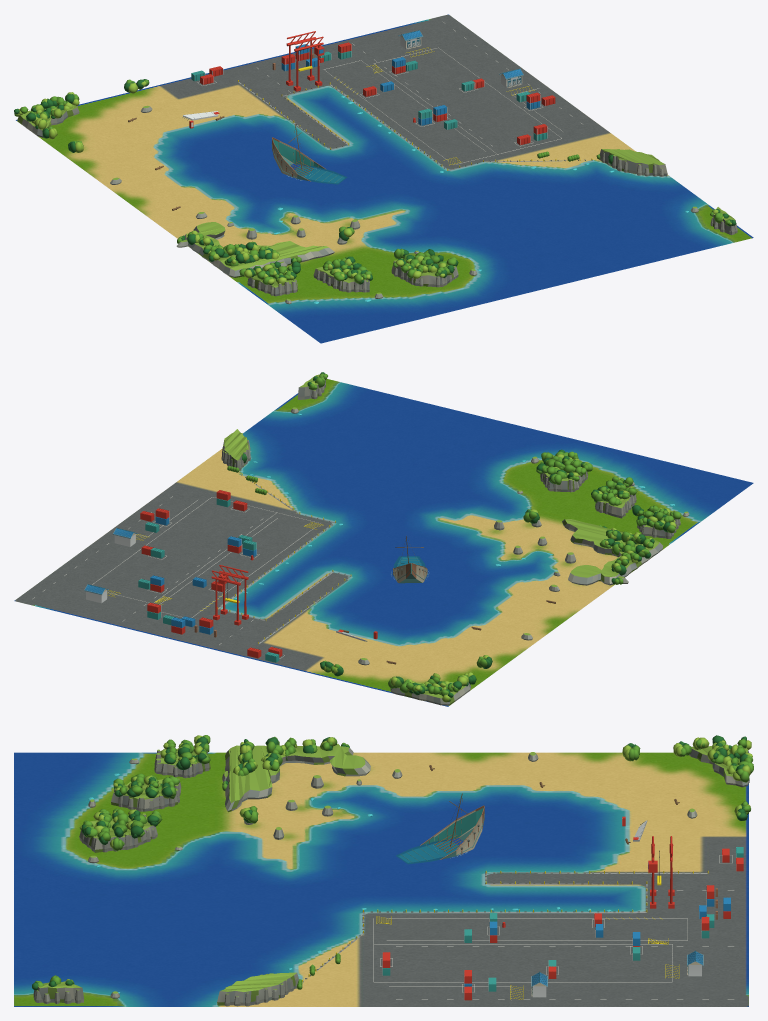
File: terrain-props.glb
3 views of the same model, one above another, from view 1: azimuth 30°, elevation 25°; view 2: azimuth 150°, elevation 25°; view 3: azimuth 270°, elevation 25° (orthographic). The views are drawn at different scales.
Parts seen in each view (by area): view 1: hm06_support_ground_water, hm06-fixed-chunk-0-3, hm06-fixed-chunk-0-4, hm06-fixed-chunk-1-4, hm06-fixed-chunk-0-0, hm06-fixed-chunk-3-0, hm06-fixed-chunk-2-2, hm06-fixed-chunk-5-3, hm06-fixed-chunk-4-0, hm06-fixed-chunk-3-1, hm06-fixed-chunk-1-3, hm06-fixed-chunk-4-1 (+3 smaller); view 2: hm06_support_ground_water, hm06-fixed-chunk-0-3, hm06-fixed-chunk-1-4, hm06-fixed-chunk-0-0, hm06-fixed-chunk-0-4, hm06-fixed-chunk-3-0, hm06-fixed-chunk-4-0, hm06-fixed-chunk-5-3, hm06-fixed-chunk-4-1, hm06-fixed-chunk-3-1, hm06-fixed-chunk-1-3, hm06-fixed-chunk-5-1 (+1 smaller); view 3: hm06_support_ground_water, hm06-fixed-chunk-0-3, hm06-fixed-chunk-1-4, hm06-fixed-chunk-0-0, hm06-fixed-chunk-0-4, hm06-fixed-chunk-5-3, hm06-fixed-chunk-2-2, hm06-fixed-chunk-3-0, hm06-fixed-chunk-2-4, hm06-fixed-chunk-4-0, hm06-fixed-chunk-5-5, hm06-fixed-chunk-1-3 (+9 smaller).
Boxes of the visible parts, x1=… form: hm06_support_ground_water: x1=16, y1=14, x2=753, y2=343; hm06-fixed-chunk-0-3: x1=176, y1=223, x2=328, y2=277; hm06-fixed-chunk-0-4: x1=234, y1=257, x2=354, y2=304; hm06-fixed-chunk-1-4: x1=308, y1=248, x2=439, y2=292; hm06-fixed-chunk-0-0: x1=14, y1=92, x2=83, y2=152; hm06-fixed-chunk-3-0: x1=256, y1=31, x2=351, y2=96; hm06-fixed-chunk-2-2: x1=279, y1=124, x2=349, y2=184; hm06-fixed-chunk-5-3: x1=584, y1=149, x2=664, y2=176; hm06-fixed-chunk-4-0: x1=338, y1=30, x2=434, y2=80; hm06-fixed-chunk-3-1: x1=329, y1=84, x2=431, y2=150; hm06-fixed-chunk-1-3: x1=274, y1=215, x2=360, y2=259; hm06-fixed-chunk-4-1: x1=381, y1=78, x2=484, y2=123; hm06_support_ground_water: x1=14, y1=379, x2=753, y2=706; hm06-fixed-chunk-0-3: x1=565, y1=519, x2=662, y2=585; hm06-fixed-chunk-1-4: x1=545, y1=456, x2=633, y2=514; hm06-fixed-chunk-0-0: x1=388, y1=655, x2=492, y2=705; hm06-fixed-chunk-0-4: x1=599, y1=487, x2=689, y2=538; hm06-fixed-chunk-3-0: x1=158, y1=565, x2=265, y2=644; hm06-fixed-chunk-4-0: x1=84, y1=575, x2=180, y2=621; hm06-fixed-chunk-5-3: x1=221, y1=429, x2=257, y2=477; hm06-fixed-chunk-4-1: x1=141, y1=536, x2=242, y2=588; hm06-fixed-chunk-3-1: x1=203, y1=540, x2=308, y2=609; hm06-fixed-chunk-1-3: x1=494, y1=509, x2=583, y2=559; hm06-fixed-chunk-5-1: x1=85, y1=522, x2=163, y2=570; hm06_support_ground_water: x1=14, y1=752, x2=748, y2=1006; hm06-fixed-chunk-0-3: x1=224, y1=736, x2=358, y2=803; hm06-fixed-chunk-1-4: x1=90, y1=777, x2=179, y2=842; hm06-fixed-chunk-0-0: x1=622, y1=735, x2=753, y2=787; hm06-fixed-chunk-0-4: x1=114, y1=735, x2=227, y2=795; hm06-fixed-chunk-5-3: x1=220, y1=972, x2=307, y2=1006; hm06-fixed-chunk-2-2: x1=396, y1=793, x2=487, y2=884; hm06-fixed-chunk-3-0: x1=618, y1=836, x2=733, y2=932; hm06-fixed-chunk-2-4: x1=94, y1=823, x2=182, y2=867; hm06-fixed-chunk-4-0: x1=617, y1=917, x2=733, y2=978; hm06-fixed-chunk-5-5: x1=32, y1=975, x2=83, y2=1003; hm06-fixed-chunk-1-3: x1=225, y1=788, x2=340, y2=839.
Bounding box in the file's own units: 65.4 × 8.95 × 78.66.
Materials: 3 (2 with a texture image).
